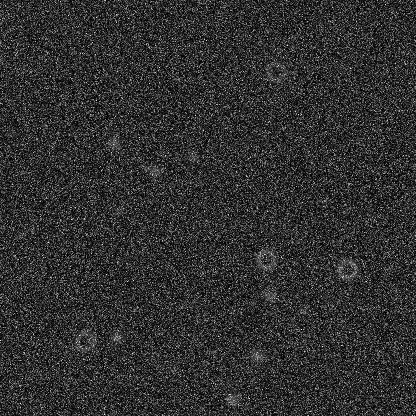Ring: (73, 329, 97, 353), (263, 59, 287, 83), (335, 257, 359, 281), (253, 247, 277, 271)
Spot: (184, 148, 200, 164), (297, 301, 313, 317), (261, 288, 277, 304), (105, 134, 121, 150), (110, 202, 126, 218), (224, 390, 240, 406), (109, 328, 125, 344), (146, 163, 162, 179), (249, 347, 265, 363), (164, 359, 180, 375), (219, 374, 235, 390)
